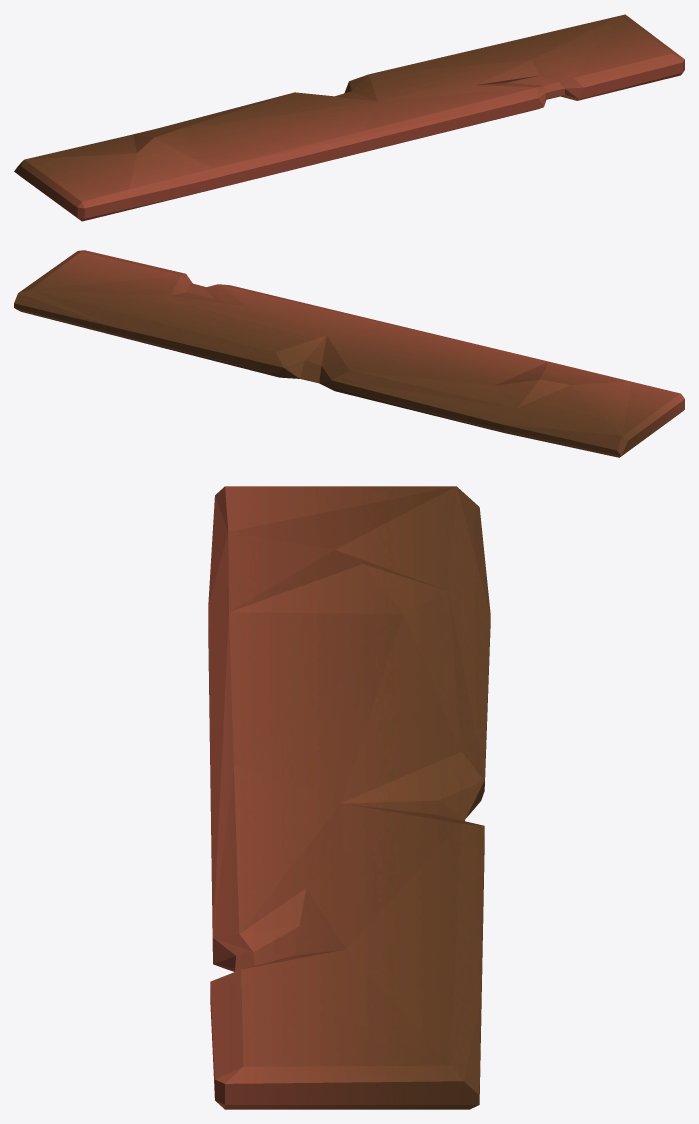
3 renders of one model, top to bottom at view 1: azimuth 30°, elevation 25°; view 2: azimuth 150°, elevation 25°; view 3: azimuth 270°, elevation 25°, orthographic. The views are drawn at different scales.
Parts seen in each view (by area): view 1: OldWoodPlank1; view 2: OldWoodPlank1; view 3: OldWoodPlank1.
Part boxes in pixels (x1,y1,x2,y2): OldWoodPlank1: (14,14,684,221); OldWoodPlank1: (14,250,684,457); OldWoodPlank1: (208,486,490,1109).
Bounding box in the file's own units: 2.89 × 0.1663 × 0.5825.
1 material, 1 textured.
